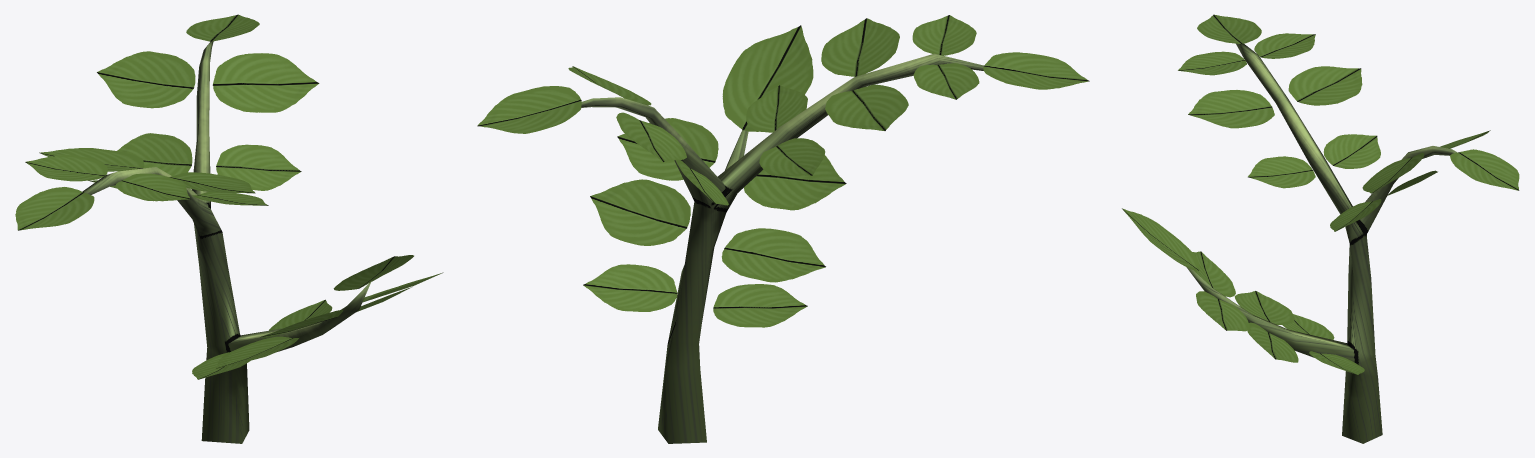
File: SM_Potato_Growing2.fbx
3 renders of one model, left to right at view 1: azimuth 30°, elevation 25°; view 2: azimuth 150°, elevation 25°; view 3: azimuth 270°, elevation 25°, orthographic. The views are drawn at different scales.
Parts seen in each view (by area): view 1: SM_Potato_Growing2; view 2: SM_Potato_Growing2; view 3: SM_Potato_Growing2.
Boxes of the visible parts, x1,y1,x2,y2 form: SM_Potato_Growing2: (15,14,443,443); SM_Potato_Growing2: (477,15,1089,443); SM_Potato_Growing2: (1122,14,1519,443).
Size of the model in its own units: 53.8 by 41.4 by 49.19.
